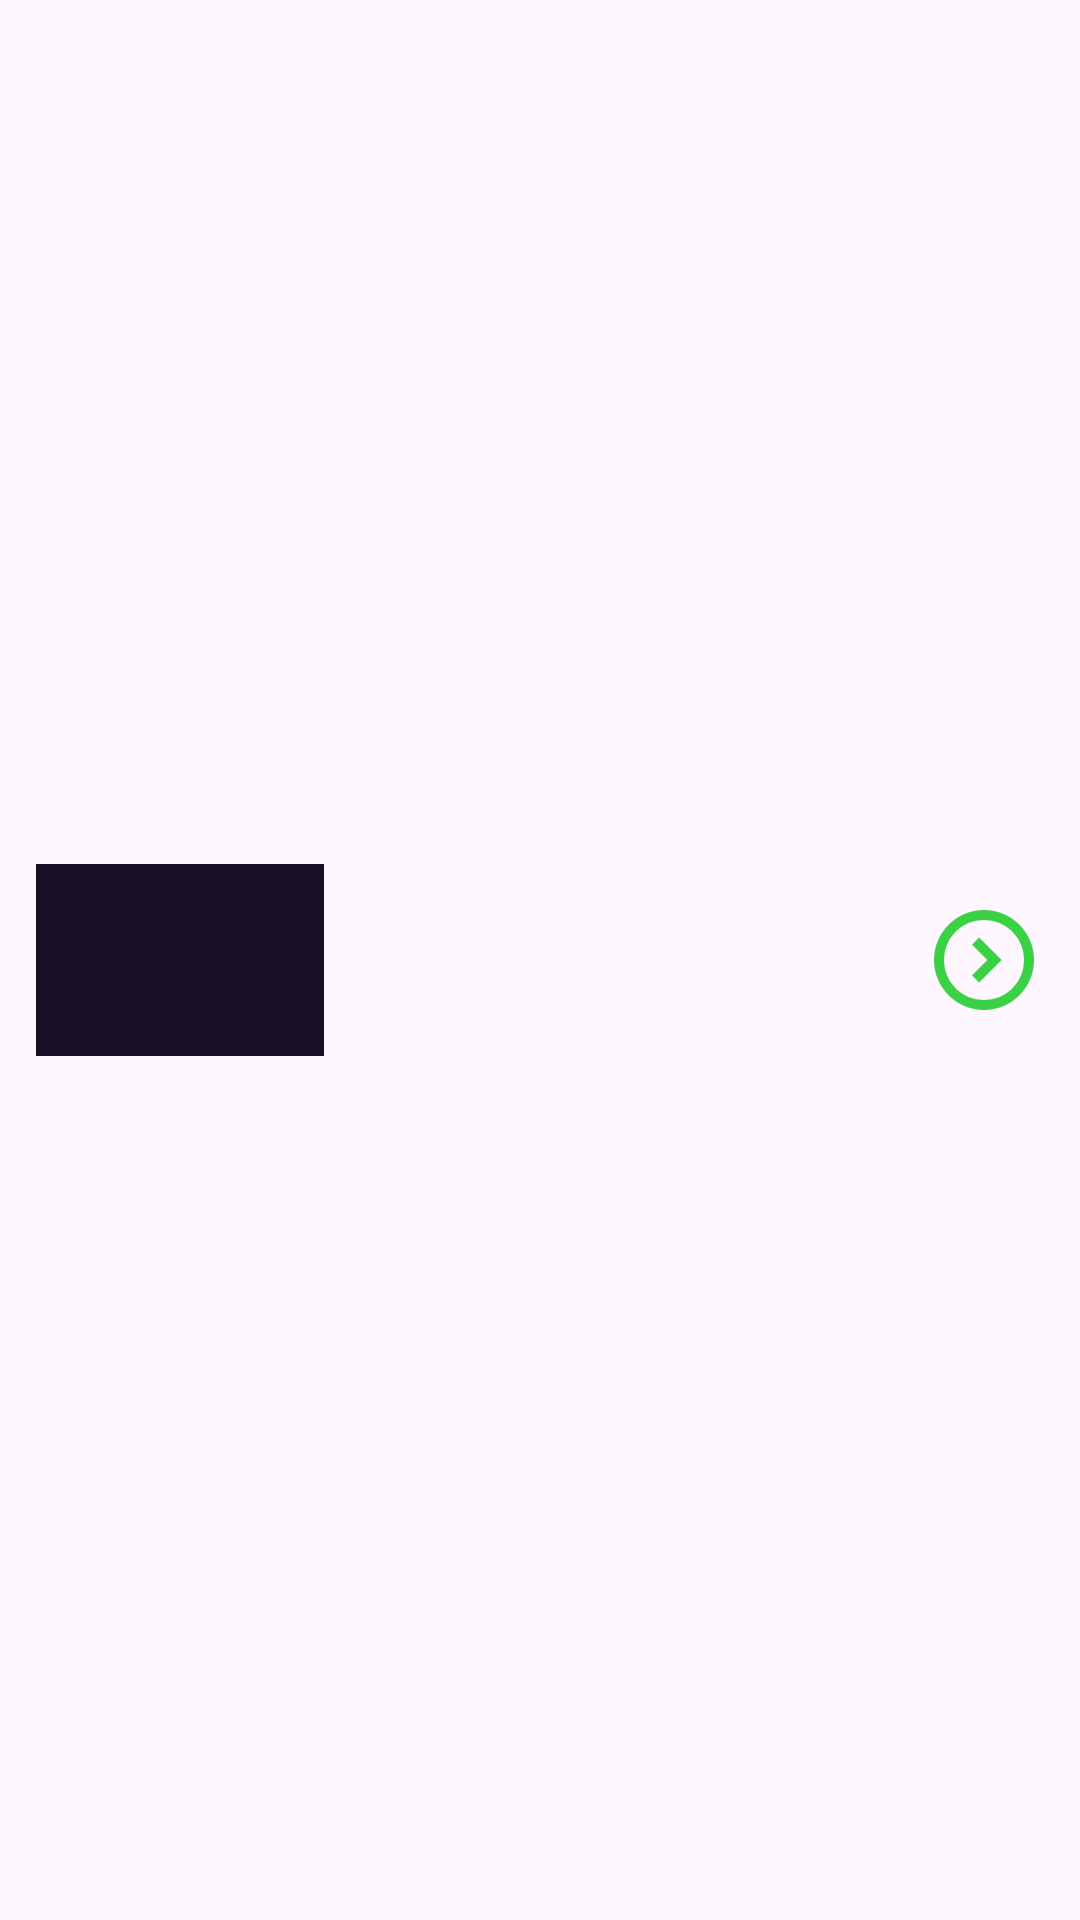

Named icons in this screenshot (1080px×1920px) and their centers, [x,y]:
expand circle right: [984,960]
